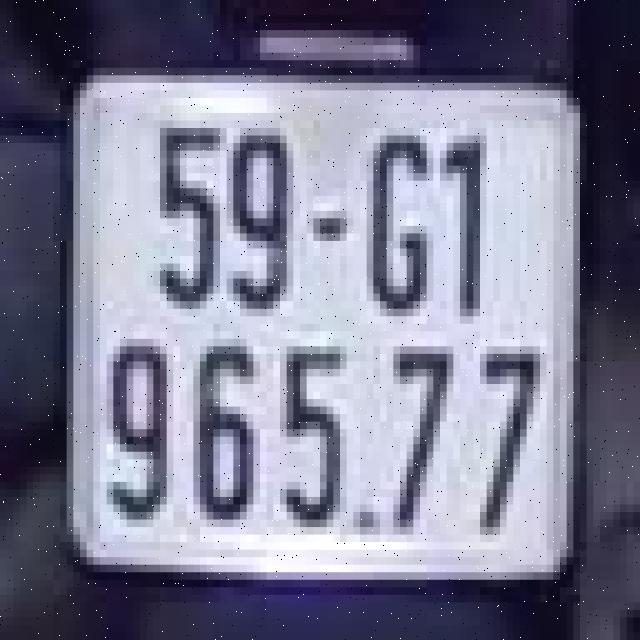1: (447, 128, 493, 324)
5: (274, 335, 354, 531), (150, 120, 223, 316)
6: (187, 335, 260, 531)
7: (380, 335, 460, 538), (473, 338, 540, 534)
9: (97, 331, 170, 527), (233, 120, 300, 308)
G: (356, 120, 436, 316)
